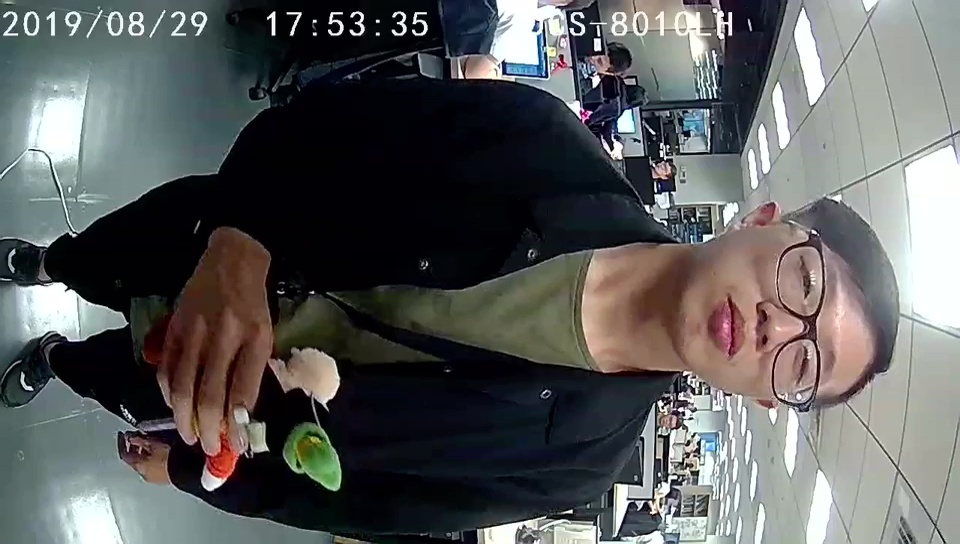goofy: (199, 348, 343, 494)
